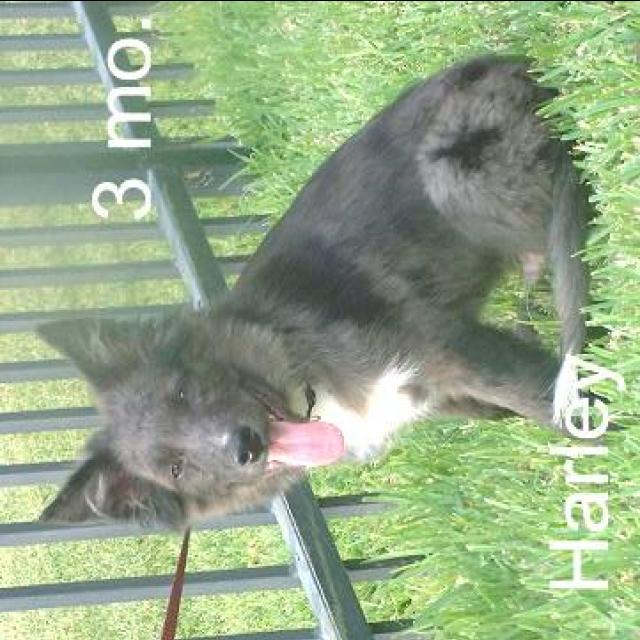dog: (24, 38, 596, 556)
